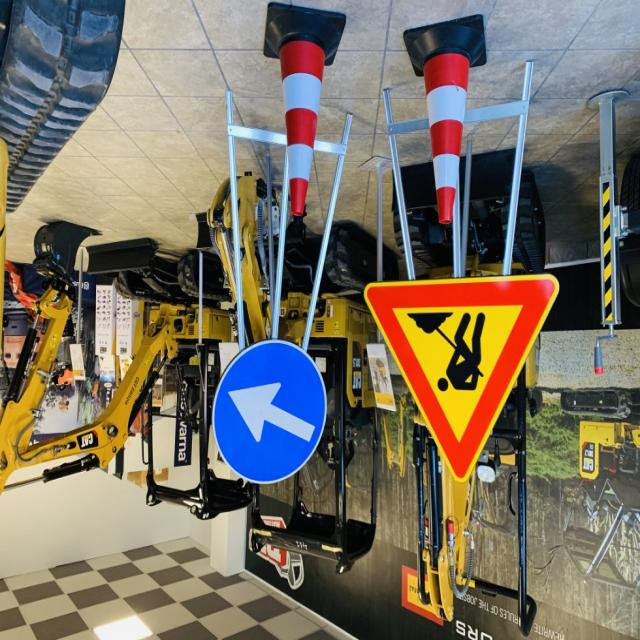Turn Left: (215, 343, 332, 484)
